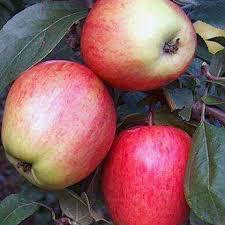Apple: (2, 60, 116, 190), (81, 0, 196, 90), (103, 124, 204, 224)
